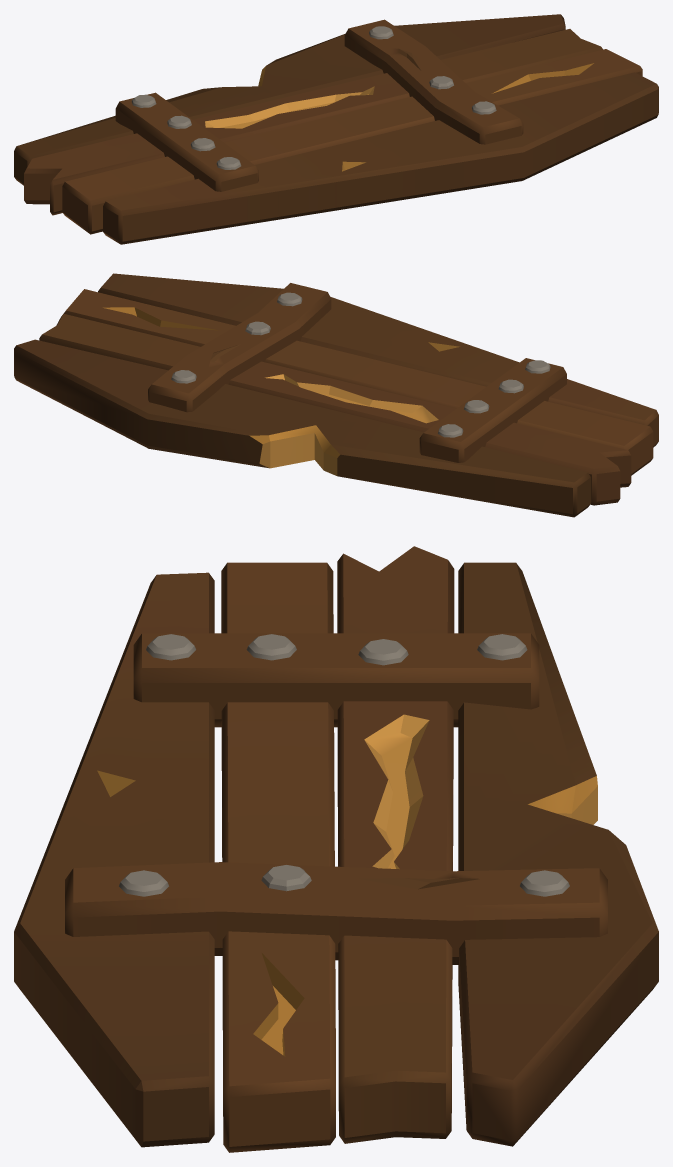
Rendered from Cofin_Lid_1_2.glb.
3 views of the same model, one above another, from view 1: azimuth 30°, elevation 25°; view 2: azimuth 150°, elevation 25°; view 3: azimuth 270°, elevation 25° (orthographic). The views are drawn at different scales.
Visible parts, largest first — view 1: Cofin_Lid_1_2; view 2: Cofin_Lid_1_2; view 3: Cofin_Lid_1_2.
Boxes of the visible parts, x1,y1,x2,y2 form: Cofin_Lid_1_2: (14, 14, 658, 244); Cofin_Lid_1_2: (14, 273, 658, 517); Cofin_Lid_1_2: (14, 546, 658, 1152).
Bounding box in the file's own units: 1.38 × 0.1265 × 0.6911.
2 materials, 2 textured.
